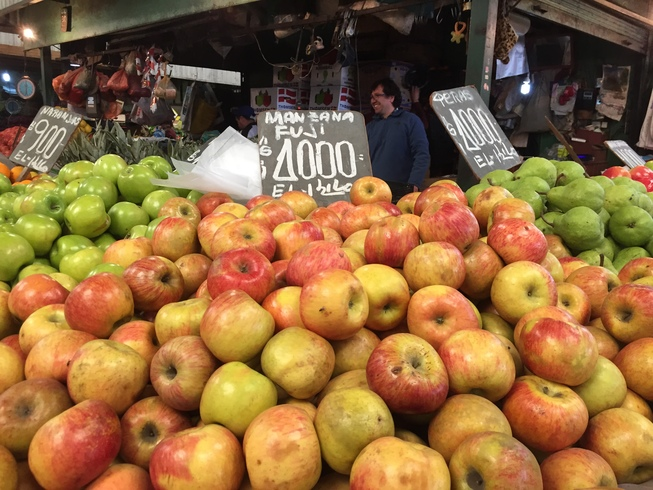precio: (255, 107, 376, 206), (431, 82, 519, 186), (15, 105, 77, 172), (604, 137, 645, 180)
